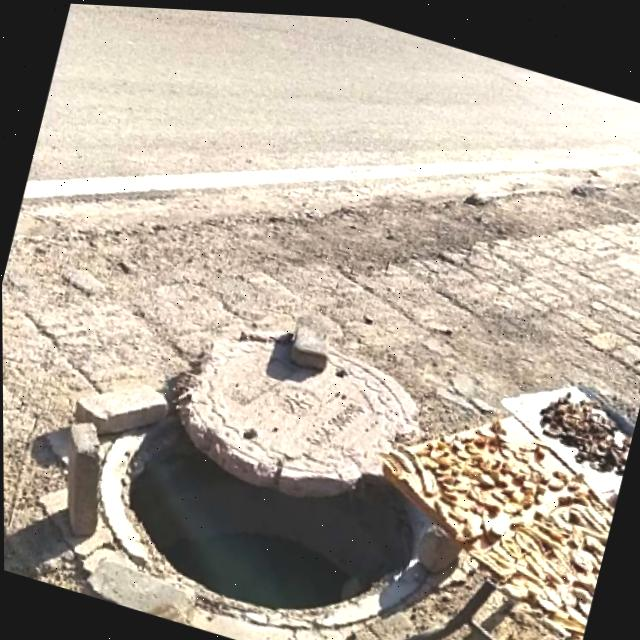manhole: (63, 278, 482, 640)
